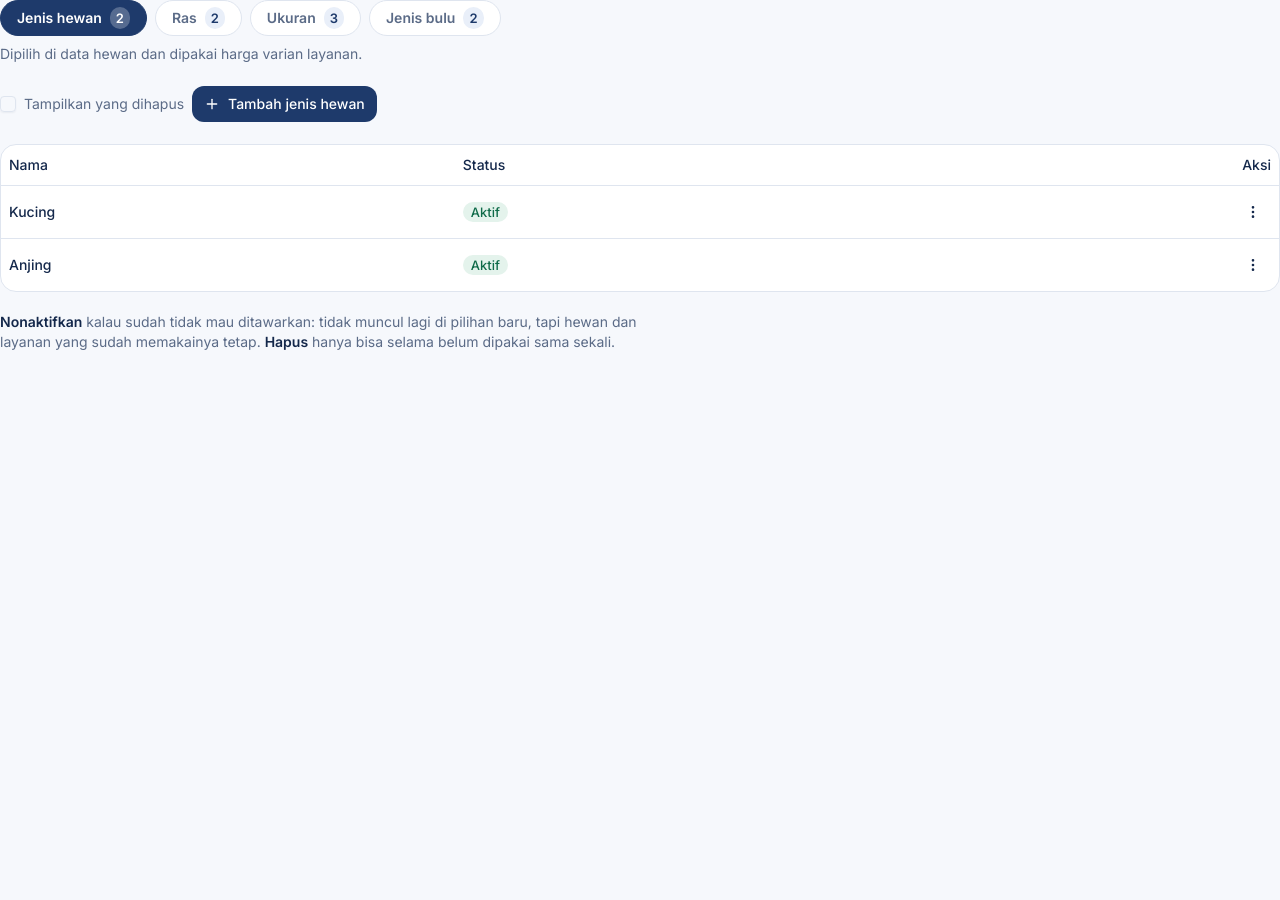
it: PetOptionsScreen › shows a conflict that is not about the name in the server's own words
The image size is (1280, 900).
Check: the text "Kucing" is shown, box [1,185,455,238]
Step 1. Click the button "Ras 2" → (198, 18), box [155,0,242,36]
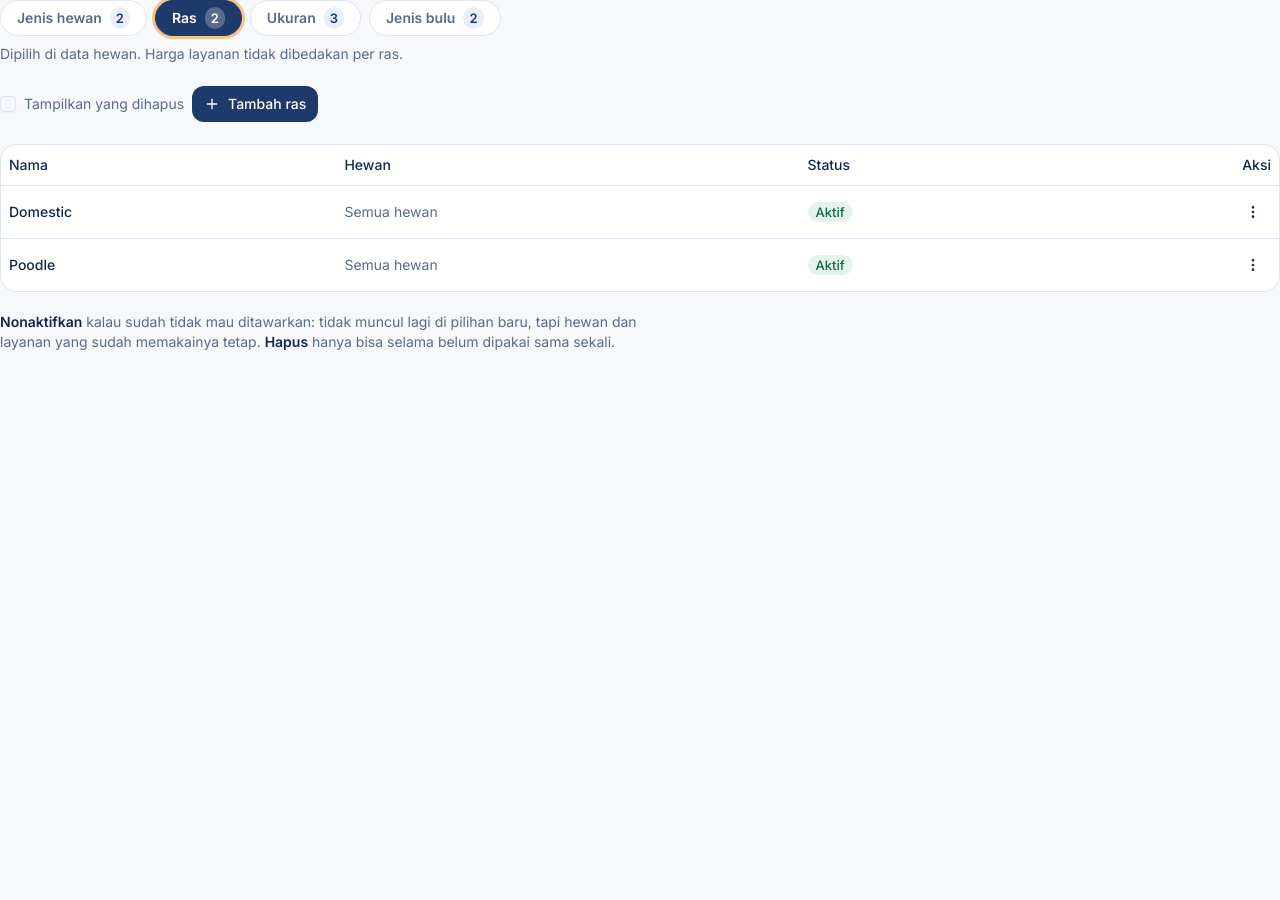
Step 2. Click the button "Tambah ras" → (255, 104), box [192,86,318,122]
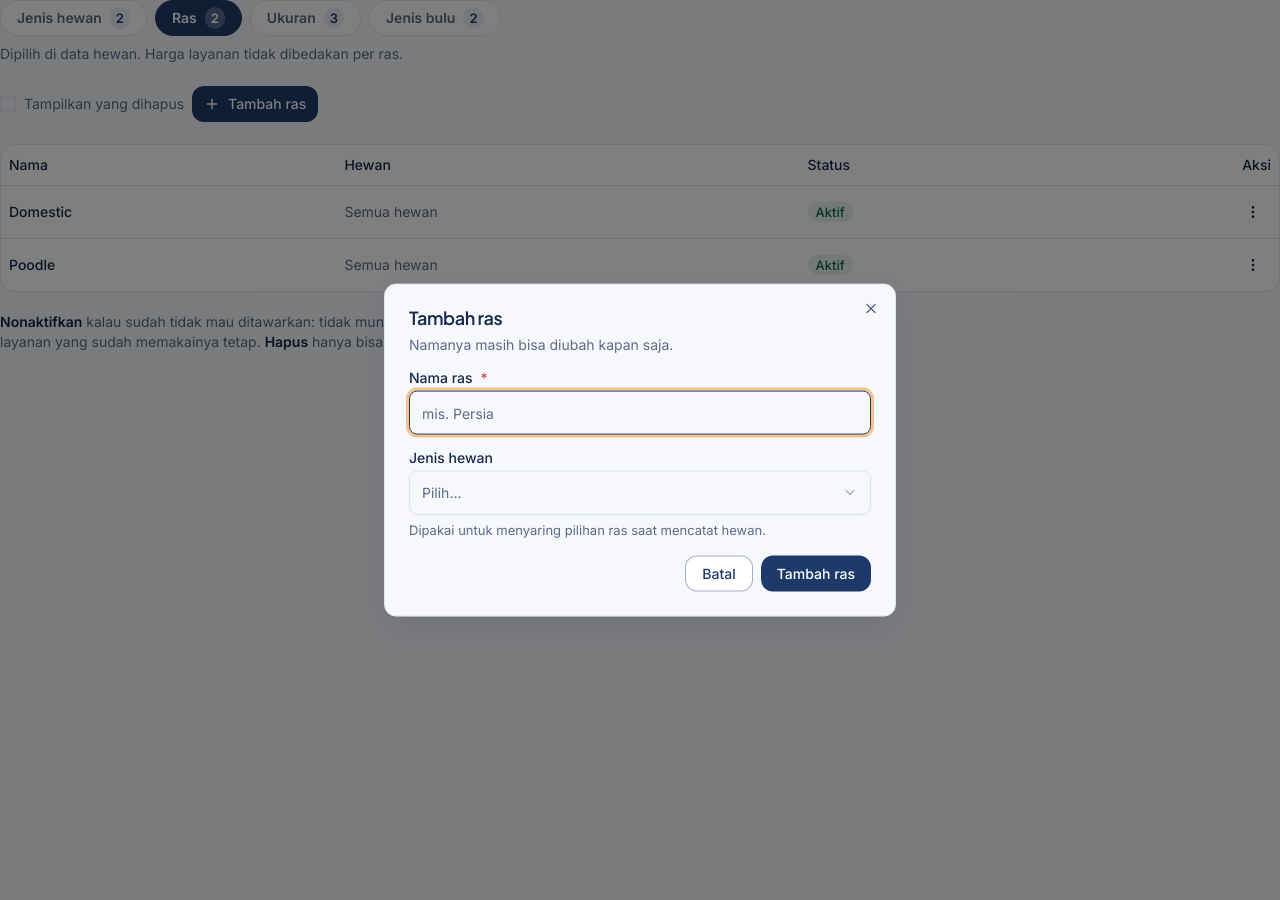
Step 3. Type "Anggora" into the field labelled "Nama ras *" → (640, 413), box [409,391,871,435]
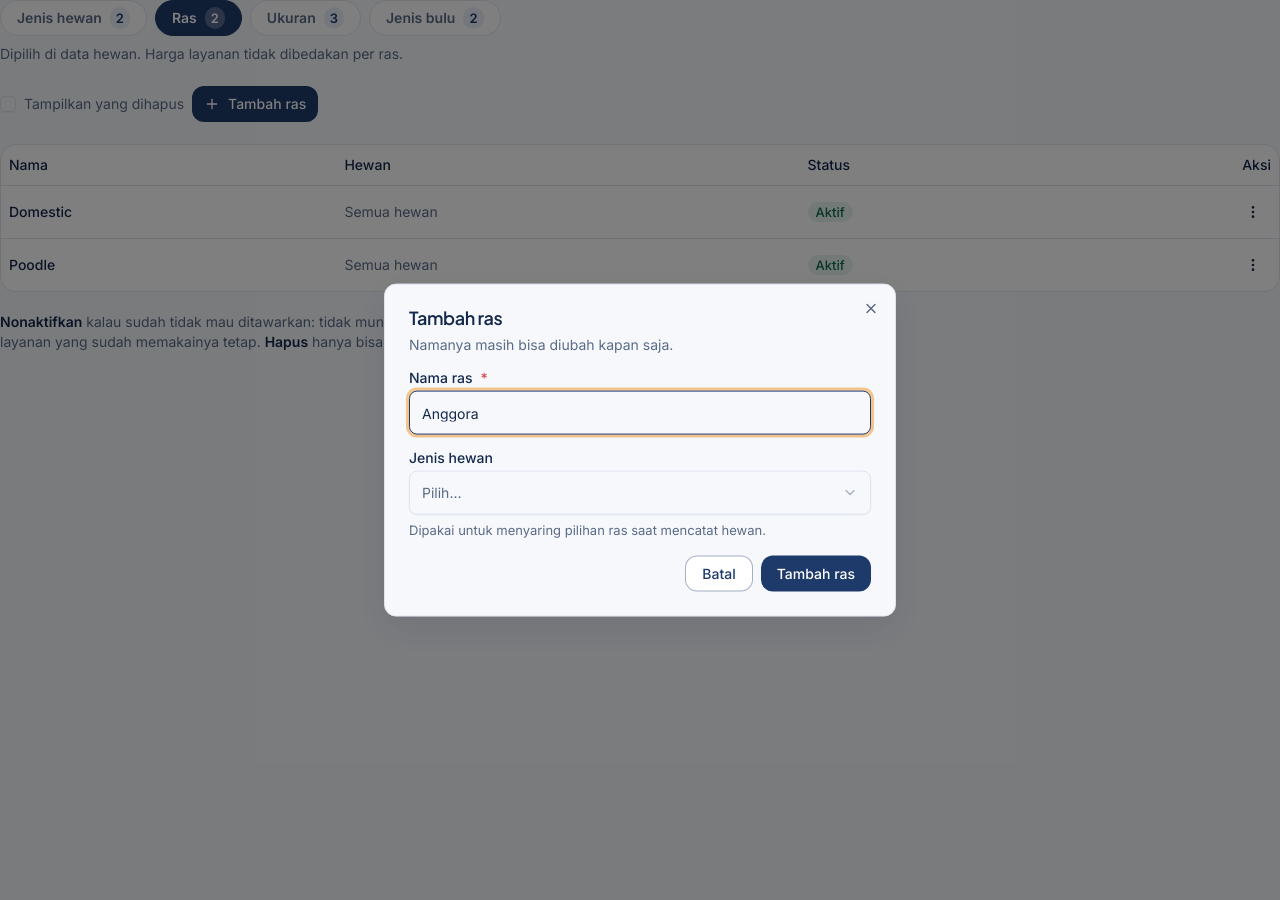
Step 4. Click the button "Tambah ras" → (816, 573), box [761,555,871,591]
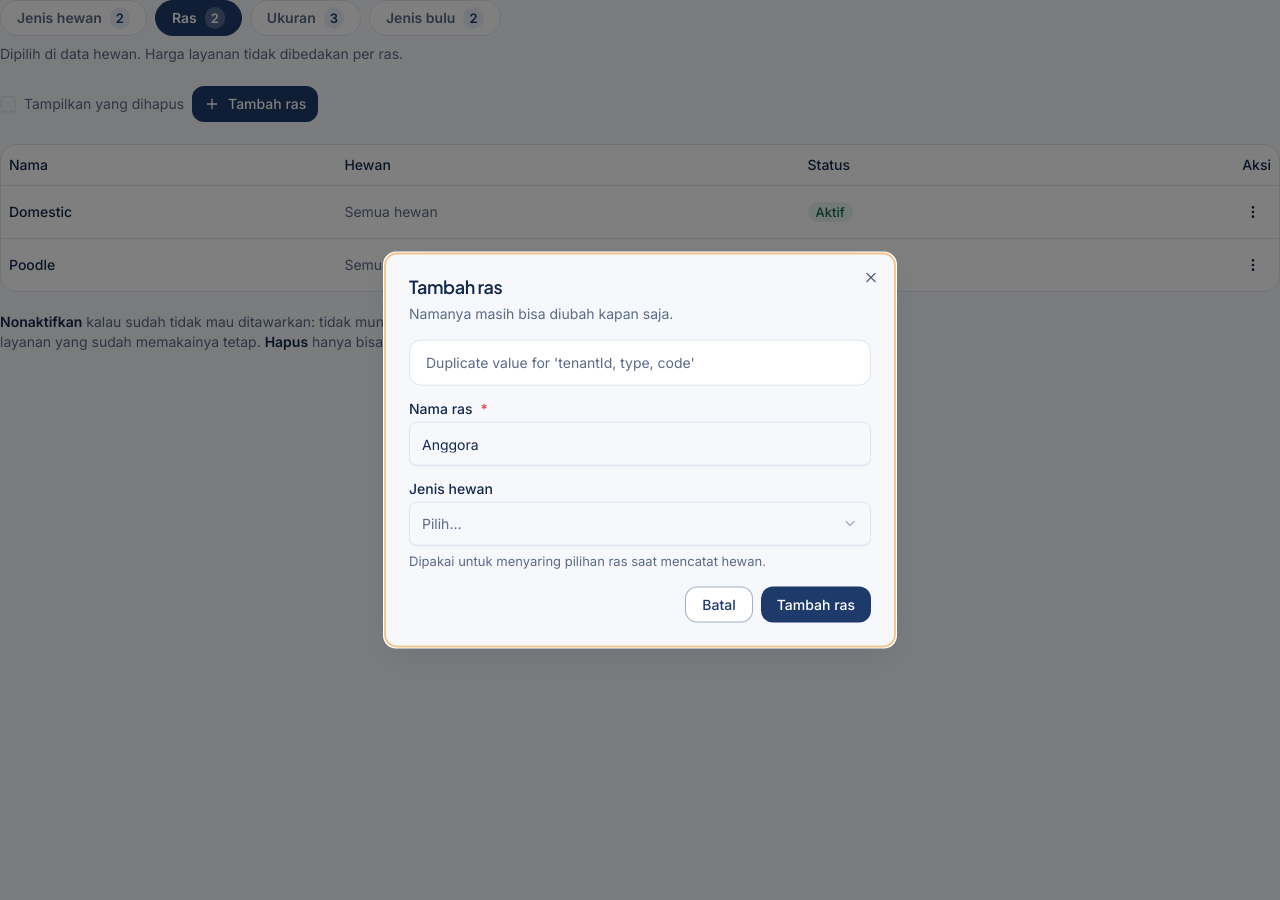
Check: the text "Duplicate value for 'tenantId, type, code'" is shown, box [426,354,695,371]
